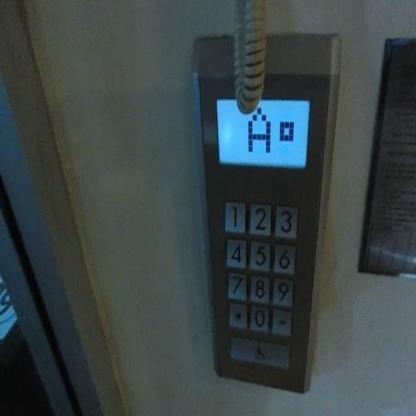-: (270, 306, 292, 337), (228, 299, 249, 329)
0: (249, 301, 270, 332)
1: (223, 198, 246, 236)
2: (249, 201, 272, 238)
3: (273, 202, 298, 242)
4: (225, 236, 248, 270)
5: (248, 238, 271, 274)
6: (271, 240, 295, 275)
7: (227, 268, 247, 302)
8: (248, 271, 270, 304)
9: (272, 274, 294, 308)
CH: (228, 331, 292, 370)
led: (214, 95, 310, 169)
